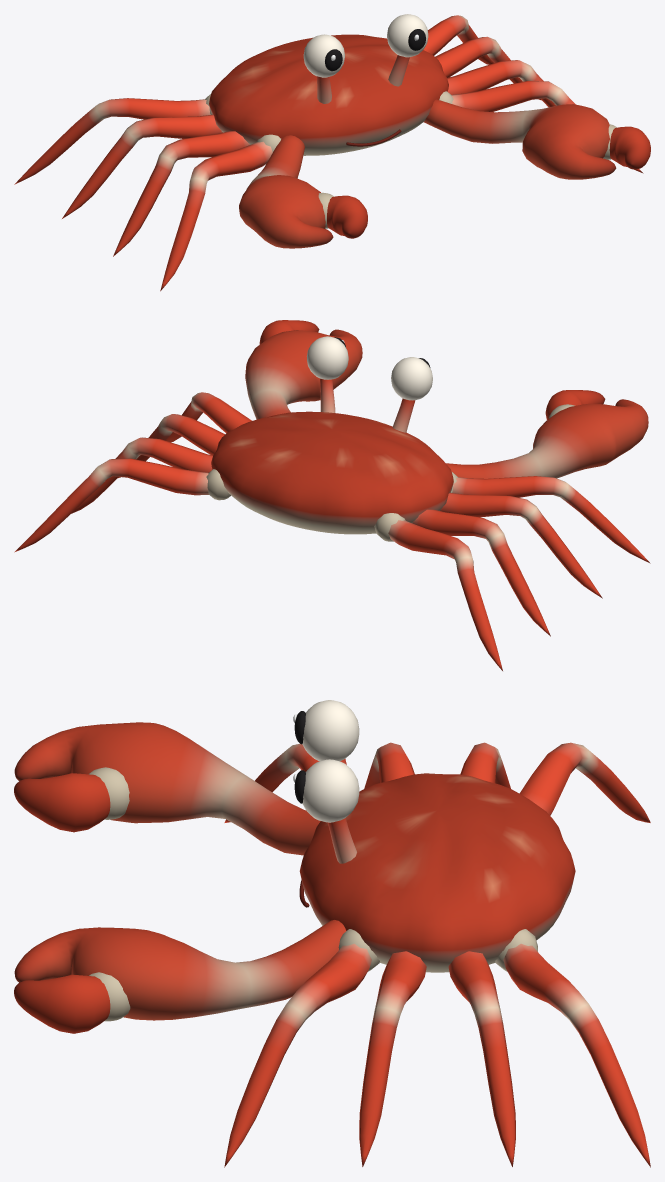
File: cangrejo.glb
3 views of the same model, one above another, from view 1: azimuth 30°, elevation 25°; view 2: azimuth 150°, elevation 25°; view 3: azimuth 270°, elevation 25° (orthographic). The views are drawn at different scales.
Parts seen in each view (by area): view 1: Caparazón y vientre, Brazo y pinza 1, Brazo y pinza 0, Ojos sobre pedúnculos, Pata 0, Pata 3, Pata 1, Pata 2, Pata 4, Pata 5, Pata 6, Dedo móvil 1 (+2 smaller); view 2: Caparazón y vientre, Brazo y pinza 0, Brazo y pinza 1, Ojos sobre pedúnculos, Pata 7, Pata 3, Pata 0, Pata 2, Pata 1, Pata 6, Pata 5, Pata 4 (+2 smaller); view 3: Caparazón y vientre, Brazo y pinza 0, Brazo y pinza 1, Ojos sobre pedúnculos, Pata 4, Pata 7, Pata 6, Pata 5, Dedo móvil 1, Dedo móvil 0, Pata 3, Pata 0 (+2 smaller).
Part boxes in pixels (bbox=[...]): Caparazón y vientre: bbox=[205, 34, 453, 155]; Brazo y pinza 1: bbox=[423, 99, 616, 179]; Brazo y pinza 0: bbox=[239, 135, 333, 248]; Ojos sobre pedúnculos: bbox=[303, 14, 428, 103]; Pata 0: bbox=[160, 141, 272, 291]; Pata 3: bbox=[14, 98, 210, 184]; Pata 1: bbox=[113, 131, 249, 256]; Pata 2: bbox=[62, 114, 222, 218]; Pata 4: bbox=[451, 81, 643, 173]; Pata 5: bbox=[447, 60, 555, 107]; Pata 6: bbox=[435, 36, 541, 100]; Dedo móvil 1: bbox=[609, 126, 650, 169]; Caparazón y vientre: bbox=[206, 411, 457, 541]; Brazo y pinza 0: bbox=[446, 399, 648, 478]; Brazo y pinza 1: bbox=[245, 329, 362, 419]; Ojos sobre pedúnculos: bbox=[307, 336, 432, 432]; Pata 7: bbox=[14, 458, 208, 552]; Pata 3: bbox=[388, 520, 502, 670]; Pata 0: bbox=[452, 476, 650, 563]; Pata 2: bbox=[412, 509, 550, 636]; Pata 1: bbox=[440, 492, 602, 598]; Pata 6: bbox=[71, 437, 212, 513]; Pata 5: bbox=[118, 414, 224, 477]; Pata 4: bbox=[165, 392, 251, 442]; Caparazón y vientre: bbox=[299, 773, 575, 972]; Brazo y pinza 0: bbox=[14, 722, 320, 855]; Brazo y pinza 1: bbox=[14, 920, 346, 1021]; Ojos sobre pedúnculos: bbox=[293, 700, 359, 863]; Pata 4: bbox=[224, 943, 371, 1167]; Pata 7: bbox=[503, 943, 650, 1167]; Pata 6: bbox=[448, 951, 515, 1166]; Pata 5: bbox=[359, 951, 426, 1166]; Dedo móvil 1: bbox=[14, 974, 110, 1033]; Dedo móvil 0: bbox=[14, 773, 110, 832]; Pata 3: bbox=[519, 742, 650, 822]; Pata 0: bbox=[224, 743, 319, 822].
Size of the model in its own units: 6.5 by 2.32 by 5.08.
